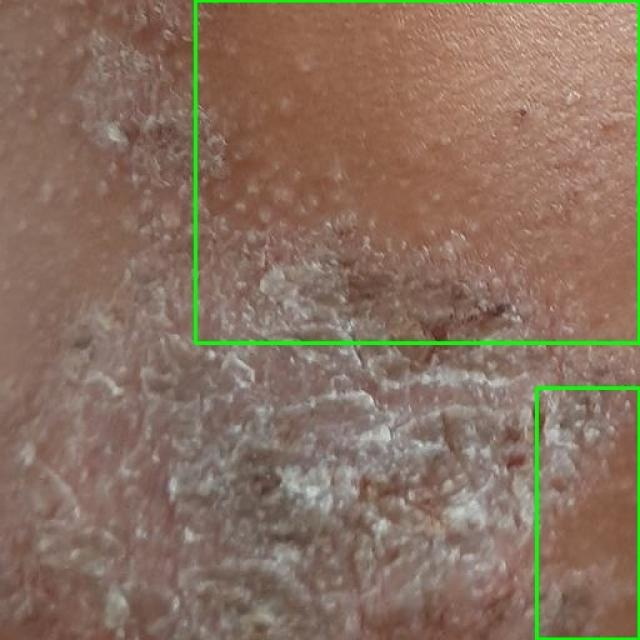Contact Dermatitis: (195, 0, 639, 342), (536, 388, 639, 639)
